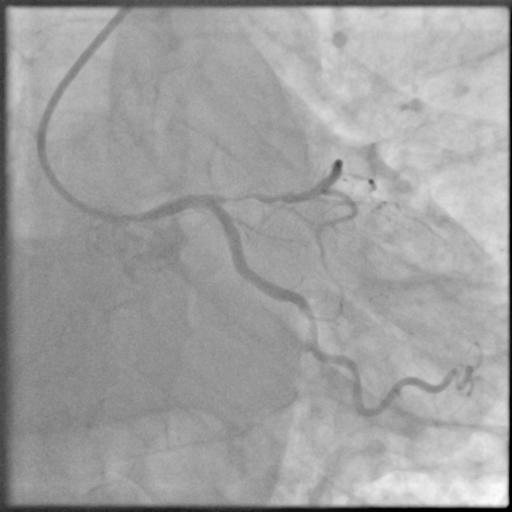Stenosis: (216, 190, 281, 202)
